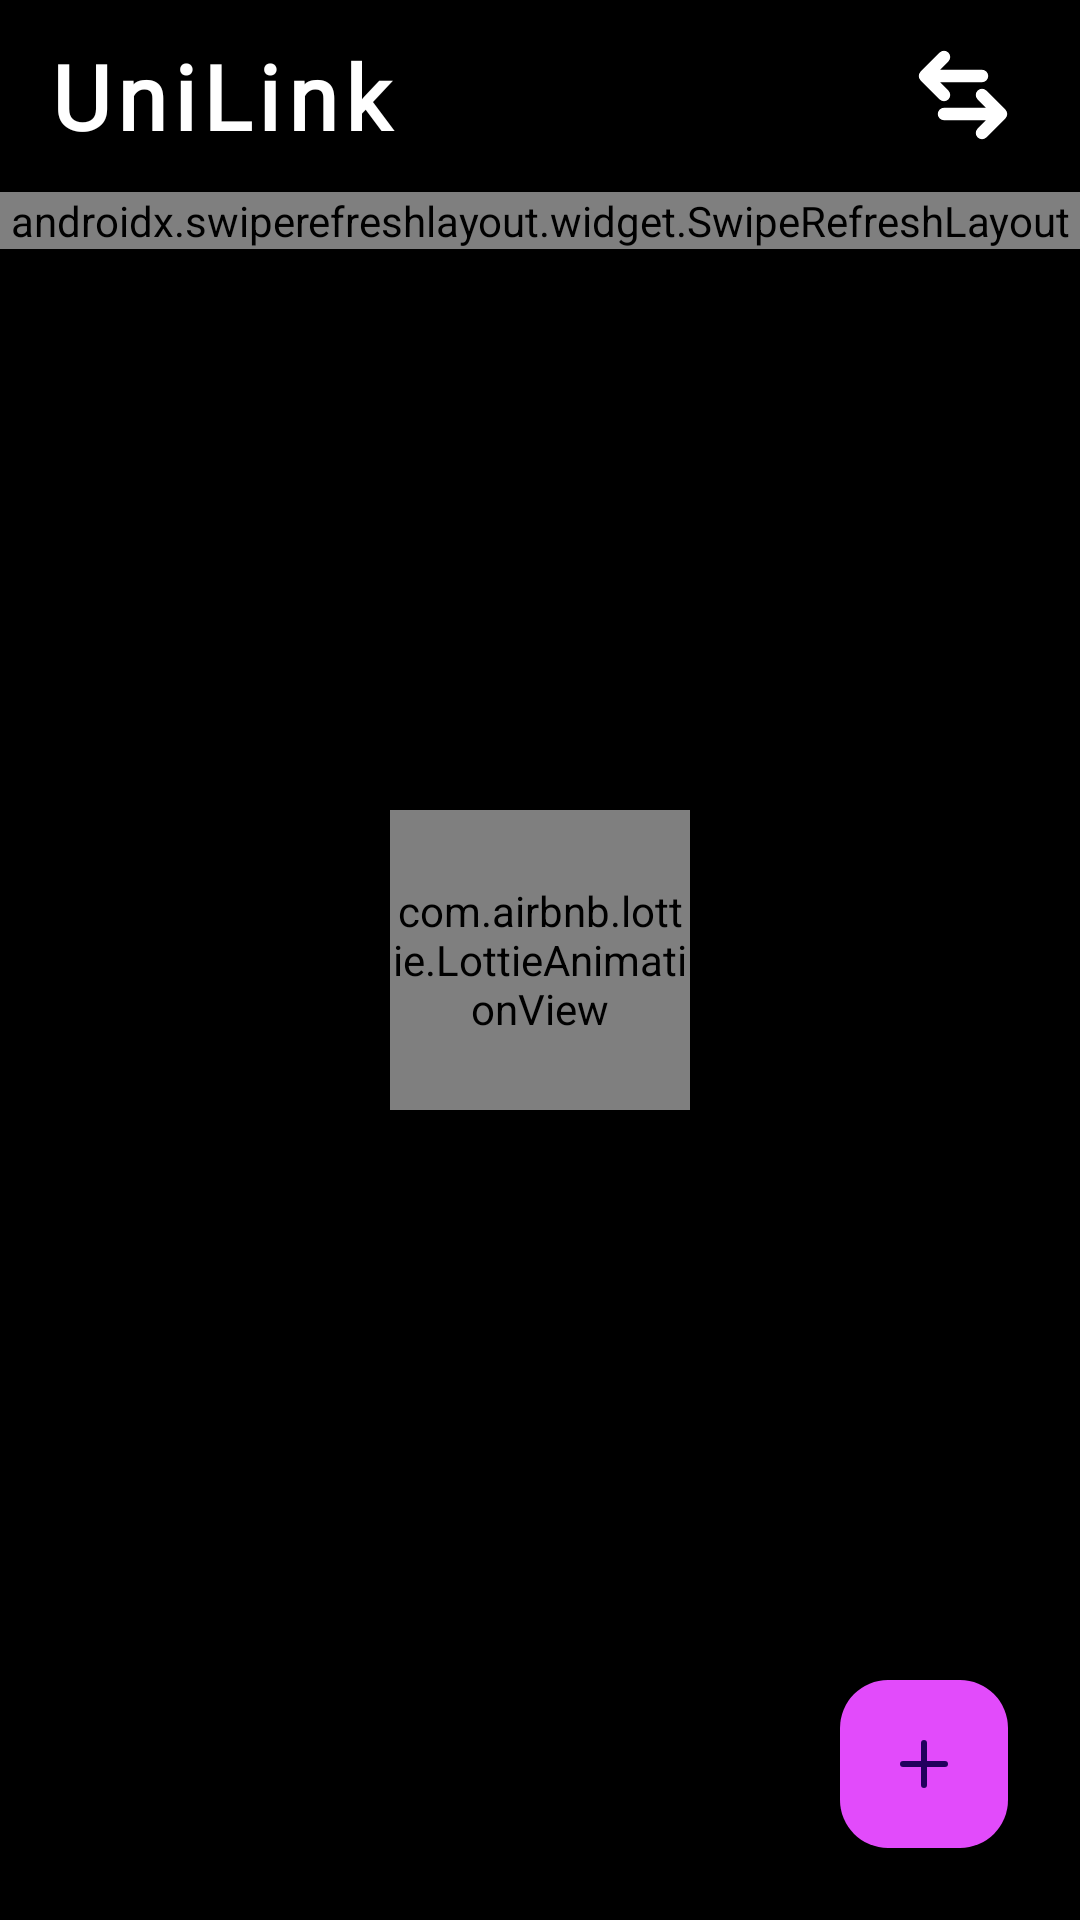

Screen size 1080x1920. Icon name, then its center in pixels as point (x, y):
add: point (924, 1764)
button to switch: point (963, 95)
